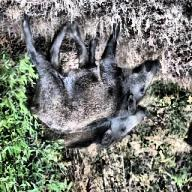boar: (21, 15, 161, 135)
